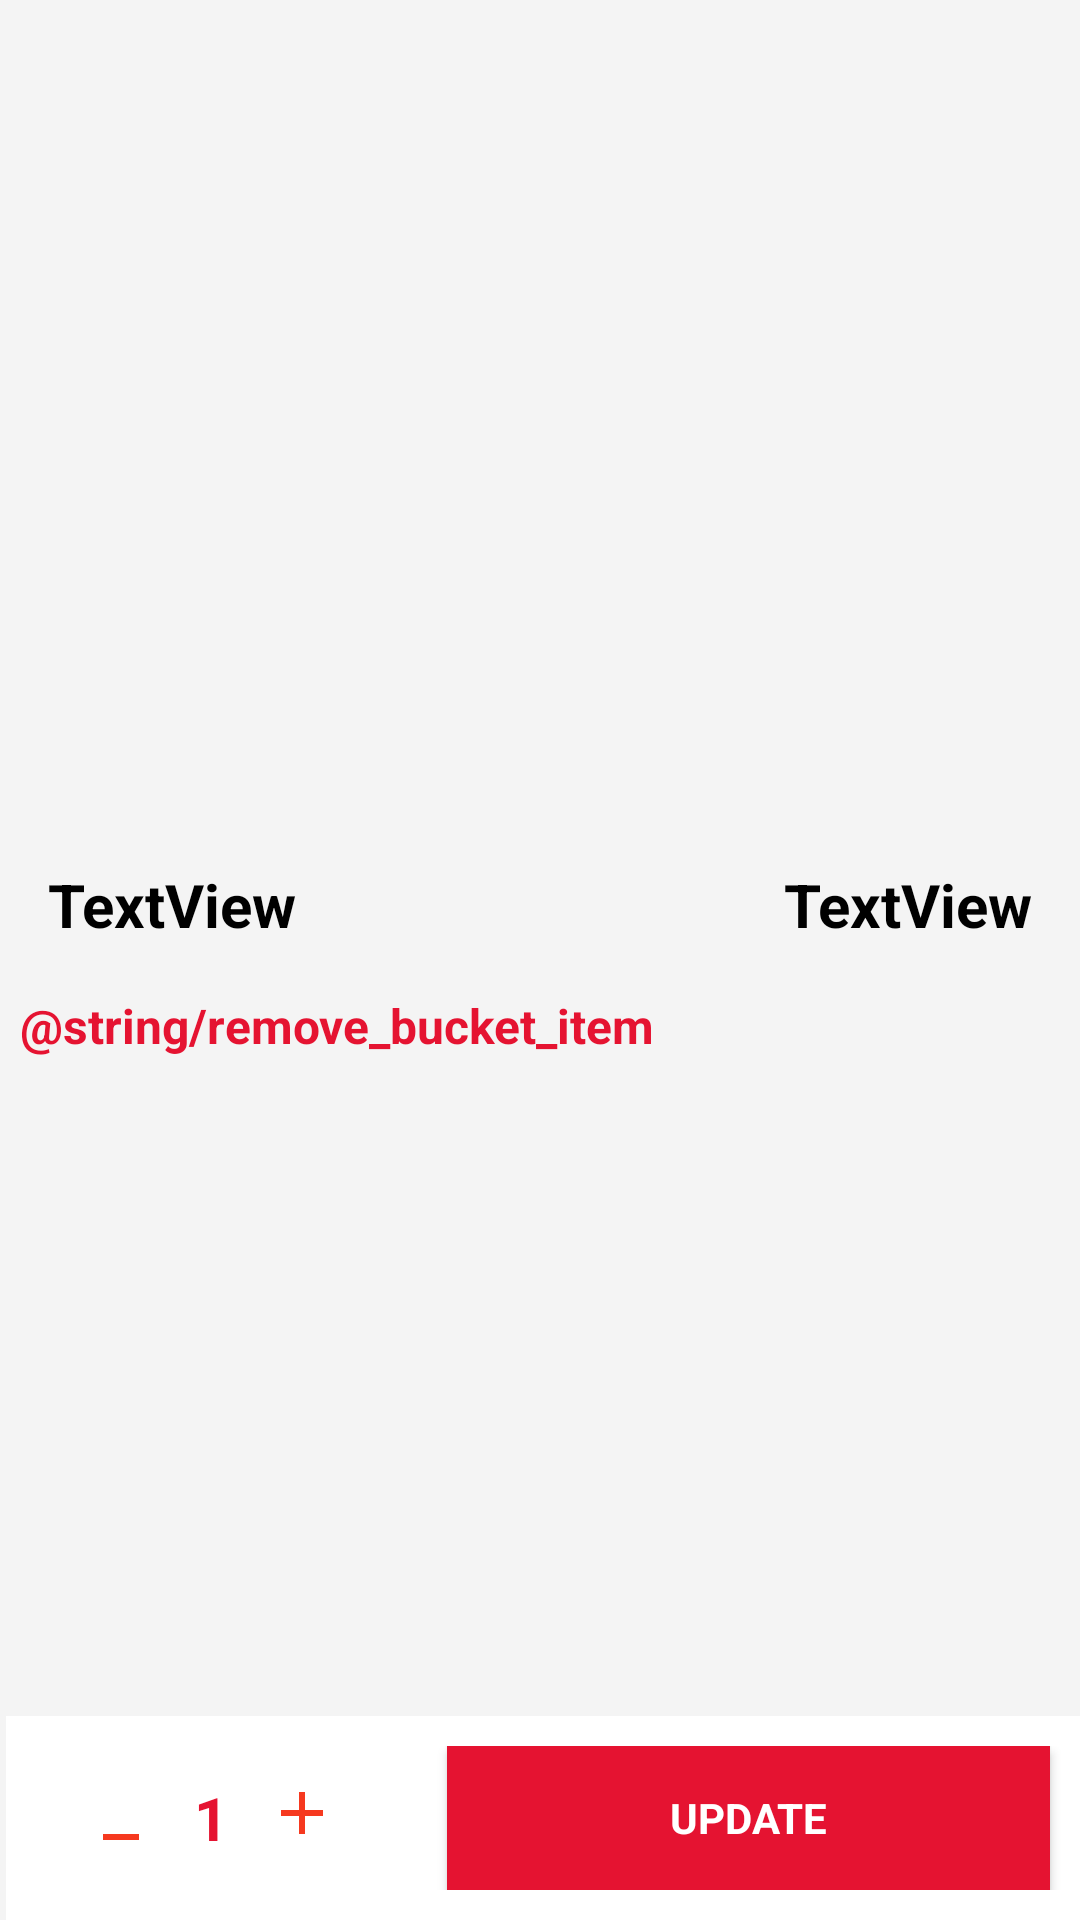

Named icons in this screenshot (1080 x 1920) and their bounding boxes, box(x1, y1, x2, y2):
add: box(281, 1792, 323, 1834)
